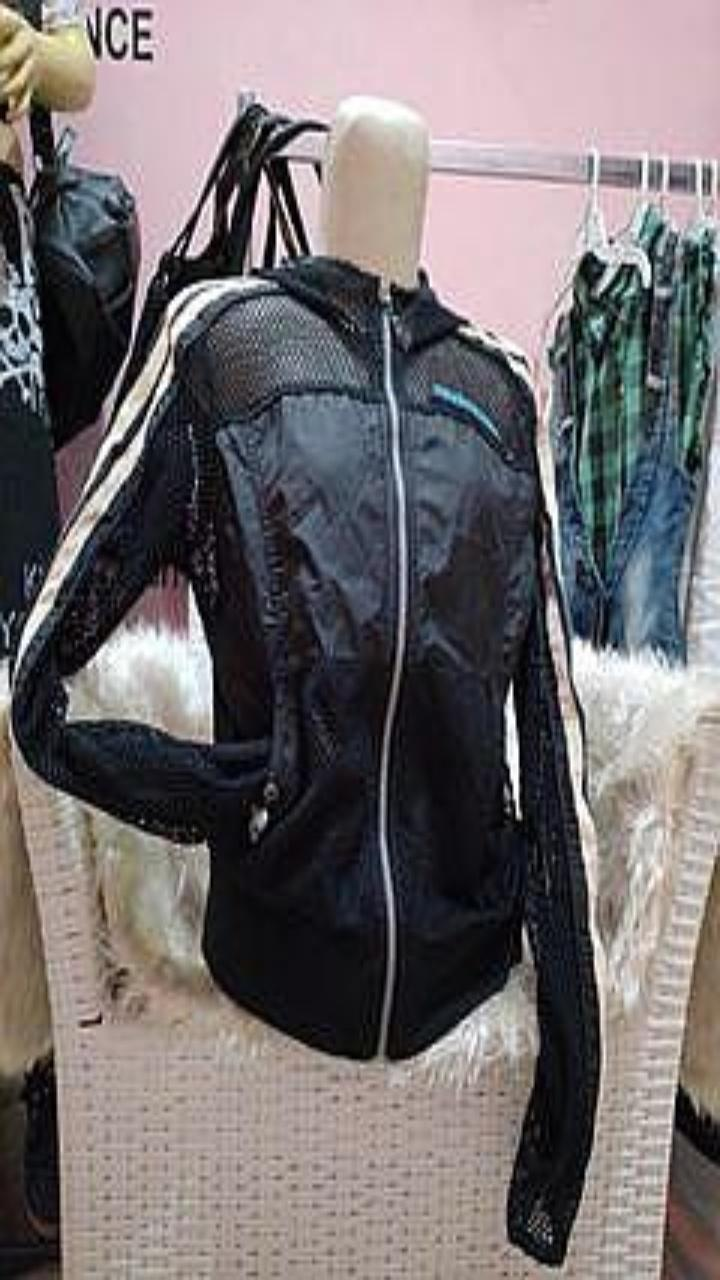Sports_Jacket: (14, 256, 599, 1263)
